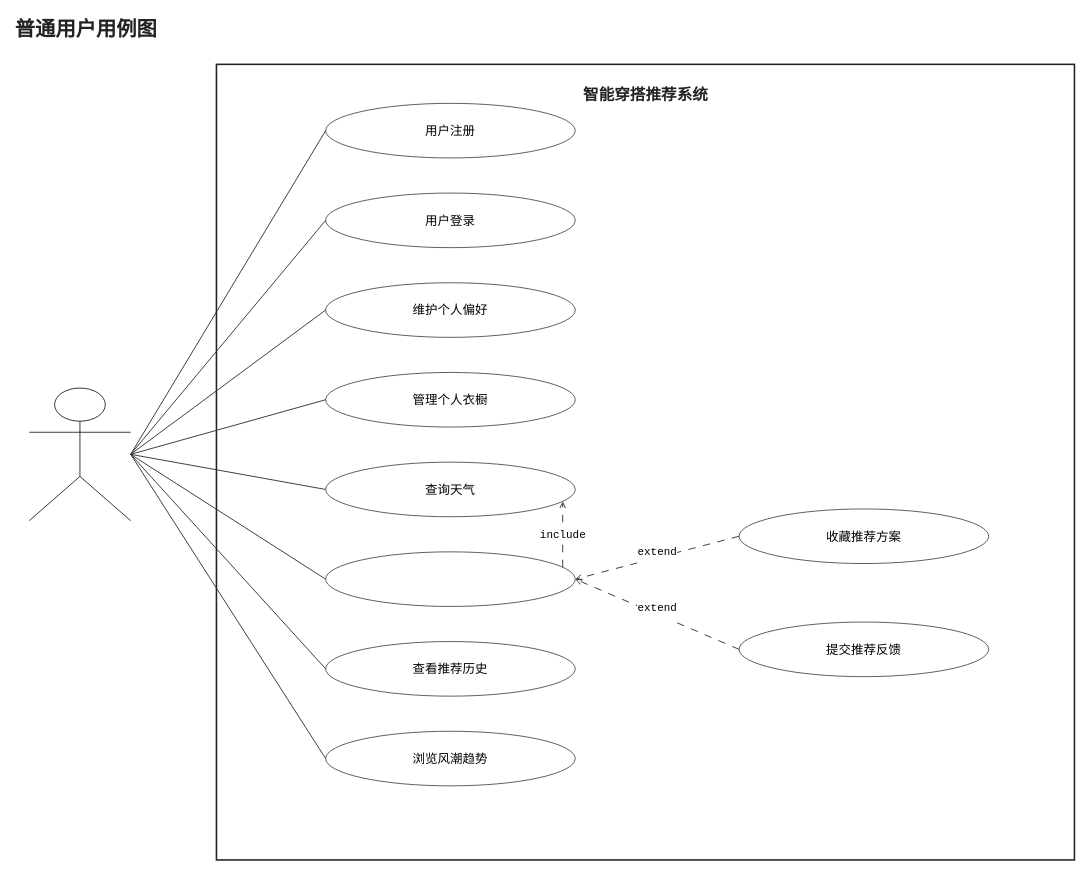
This 1088x874 diagram has some shape labels left out. The centre of each missing label's shape, as x and y in pixels:
普通用户: (79,454)
生成智能穿搭: (450,578)
